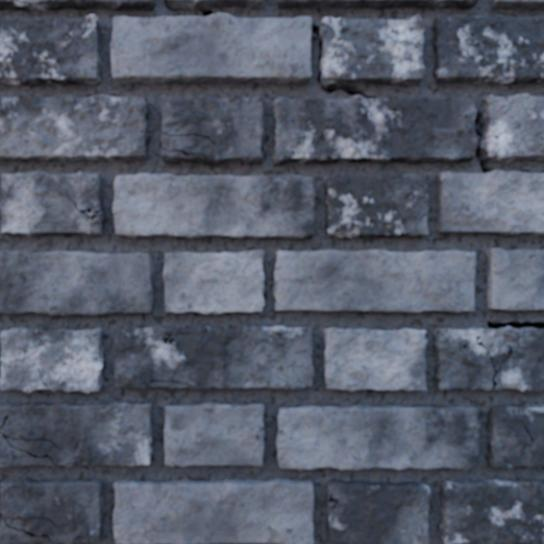brick: (111, 14, 311, 83), (274, 97, 477, 164), (114, 325, 314, 390), (277, 405, 479, 469), (113, 174, 314, 238), (114, 479, 313, 543), (274, 251, 475, 312), (0, 94, 150, 161), (0, 252, 153, 316), (0, 403, 152, 467), (433, 16, 543, 83), (320, 16, 425, 84), (0, 16, 102, 84), (433, 328, 543, 391), (161, 97, 263, 164), (0, 172, 105, 237), (437, 171, 543, 235), (439, 478, 543, 543), (1, 328, 104, 393), (326, 173, 430, 237), (0, 479, 104, 543), (325, 328, 426, 391), (327, 481, 429, 543), (165, 403, 264, 466), (164, 251, 263, 314), (482, 95, 543, 161), (487, 405, 543, 469), (487, 249, 543, 311), (279, 0, 478, 8), (0, 0, 155, 10), (168, 0, 264, 9), (490, 0, 543, 8)
crack: (476, 336, 515, 391), (0, 512, 61, 542), (317, 71, 378, 100), (66, 193, 104, 223), (474, 113, 491, 174), (162, 147, 208, 162), (162, 131, 215, 144), (150, 379, 197, 390), (487, 321, 543, 330), (311, 24, 323, 66), (165, 0, 190, 13), (328, 492, 339, 509), (200, 9, 215, 18), (519, 170, 534, 174), (330, 540, 349, 543), (306, 192, 314, 199), (472, 423, 479, 429), (424, 333, 428, 340), (390, 98, 397, 100)
